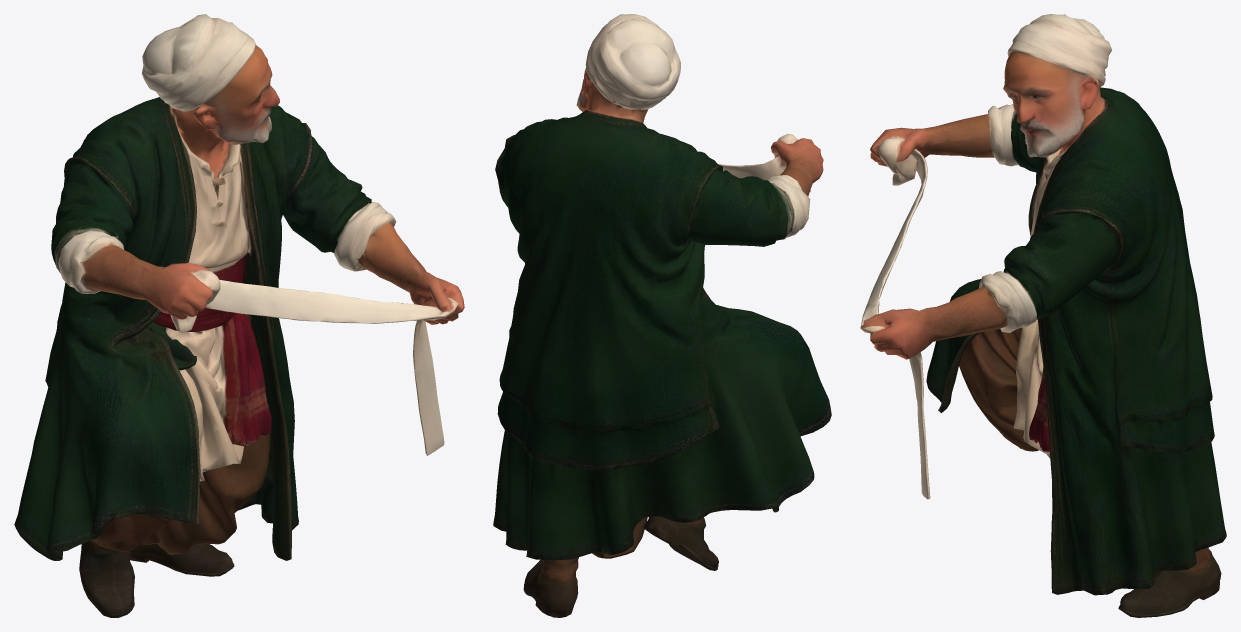
The model's file is osmanli-sefer-cerrahi-1550-1600-tripo-v1.glb.
3 views of the same model, side by side, from view 1: azimuth 30°, elevation 25°; view 2: azimuth 150°, elevation 25°; view 3: azimuth 270°, elevation 25° (orthographic). The views are drawn at different scales.
Visible parts, largest first — view 1: tripo_node_75952dd1-70ec-4d7d-844a-4b28df2ae0fb; view 2: tripo_node_75952dd1-70ec-4d7d-844a-4b28df2ae0fb; view 3: tripo_node_75952dd1-70ec-4d7d-844a-4b28df2ae0fb.
Boxes of the visible parts, box(x1,y1,x2,y2) form: tripo_node_75952dd1-70ec-4d7d-844a-4b28df2ae0fb: box(14, 14, 464, 617); tripo_node_75952dd1-70ec-4d7d-844a-4b28df2ae0fb: box(493, 14, 831, 617); tripo_node_75952dd1-70ec-4d7d-844a-4b28df2ae0fb: box(860, 14, 1226, 617).
Size of the model in its own units: 0.6184 by 1 by 0.5815.
Materials: 1 (1 with a texture image).
